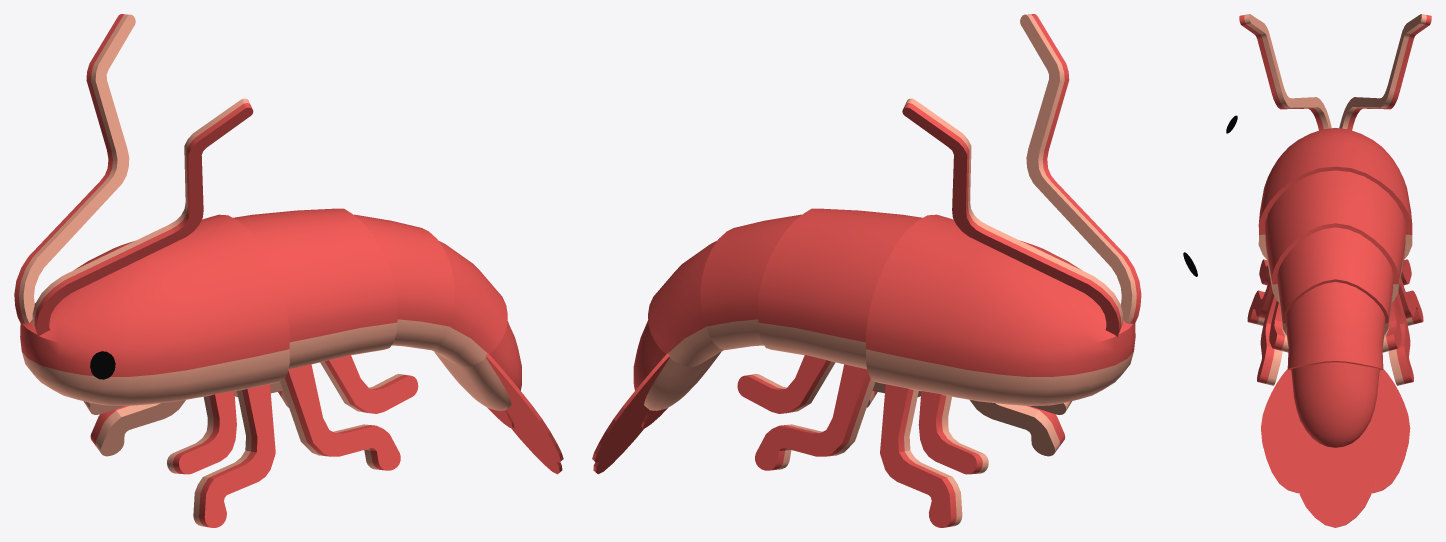
The model's file is shrimp.glb.
3 views of the same model, side by side, from view 1: azimuth 30°, elevation 25°; view 2: azimuth 150°, elevation 25°; view 3: azimuth 270°, elevation 25° (orthographic). The views are drawn at different scales.
Parts seen in each view (by area): view 1: Cube.186; view 2: Cube.186; view 3: Cube.186.
Boxes of the visible parts, x1,y1,x2,y2 form: Cube.186: [14, 14, 563, 527]; Cube.186: [592, 14, 1141, 527]; Cube.186: [1239, 14, 1431, 527].
Size of the model in its own units: 2.07 by 1.88 by 0.9242.
Materials: 1 (1 with a texture image).
